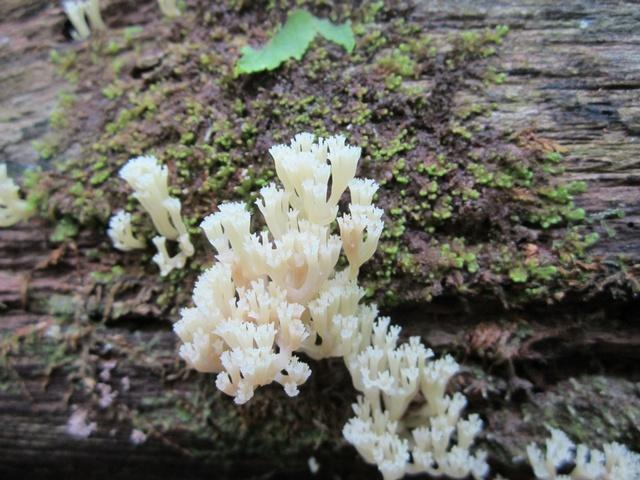Edible Mushroom: (110, 130, 490, 477), (171, 130, 387, 405), (59, 0, 108, 41)
